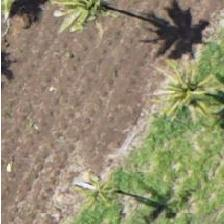coconut_tree: (146, 48, 223, 138), (46, 0, 136, 49)
